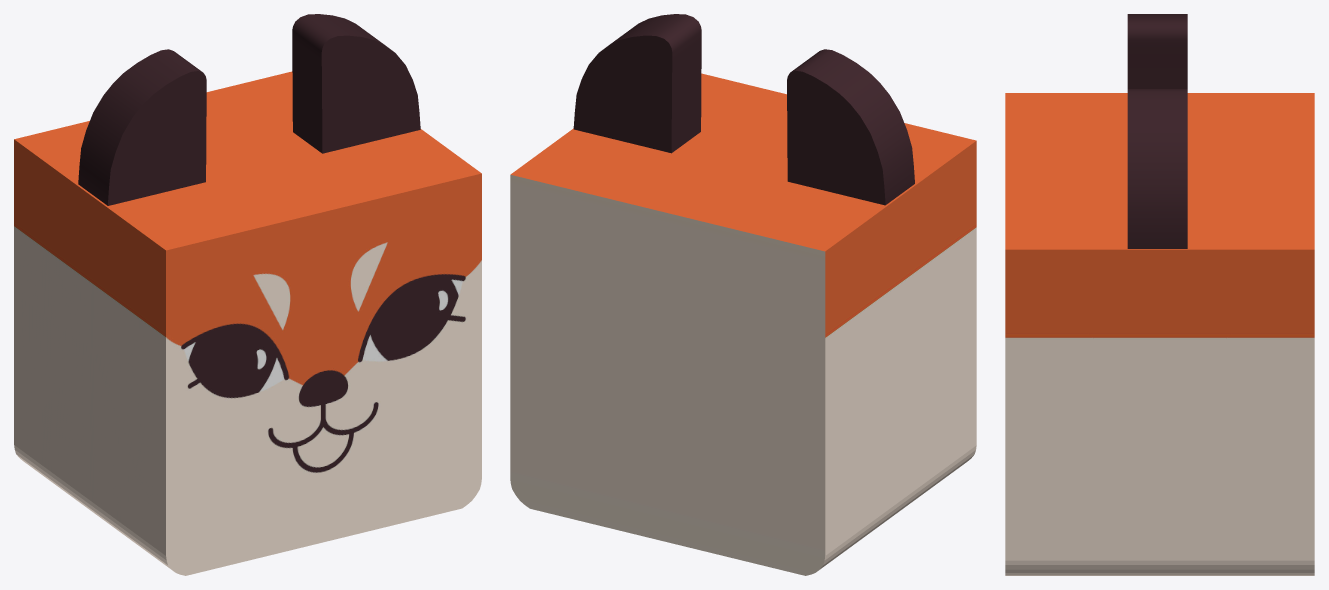
File: Fox.fbx
3 views of the same model, side by side, from view 1: azimuth 30°, elevation 25°; view 2: azimuth 150°, elevation 25°; view 3: azimuth 270°, elevation 25° (orthographic). The views are drawn at different scales.
Visible parts, largest first — view 1: Fox; view 2: Fox; view 3: Fox.
Boxes of the visible parts, x1,y1,x2,y2 form: Fox: (14, 14, 481, 575); Fox: (510, 14, 976, 575); Fox: (1005, 14, 1314, 575).
Bounding box in the file's own units: 5.36 × 7.2 × 4.47.
1 material, 1 textured.
